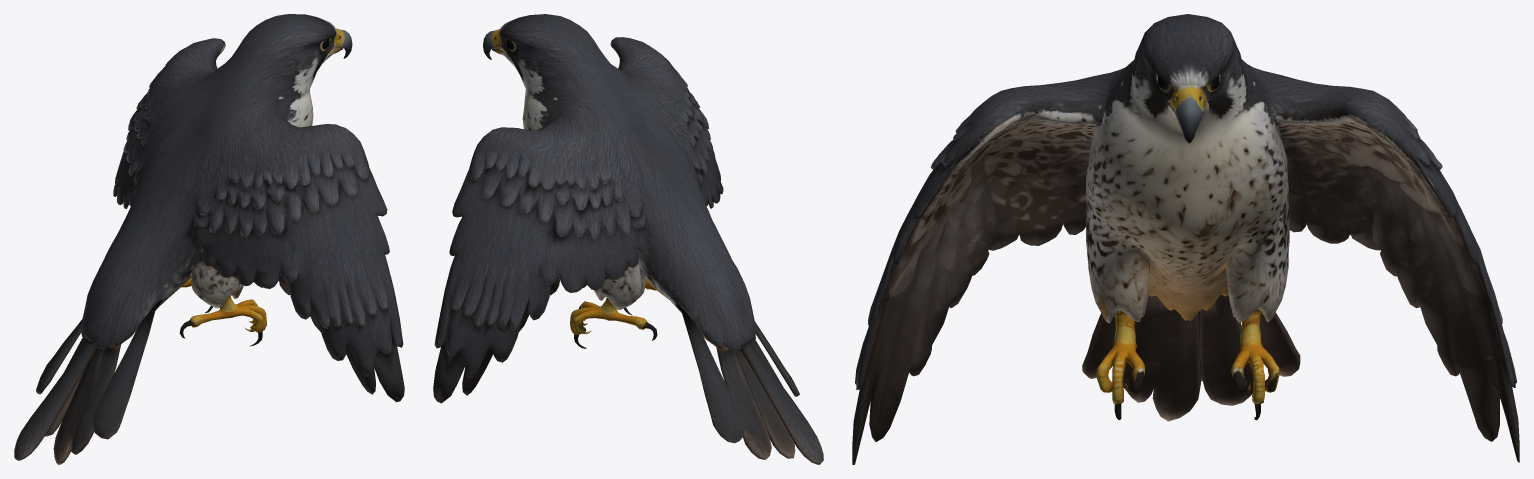
File: r33-falcon.glb
3 views of the same model, side by side, from view 1: azimuth 30°, elevation 25°; view 2: azimuth 150°, elevation 25°; view 3: azimuth 270°, elevation 25° (orthographic). The views are drawn at different scales.
Visible parts, largest first — view 1: tripo_node_3c106a39-9b25-406b-a4f7-652bc8f7e81e; view 2: tripo_node_3c106a39-9b25-406b-a4f7-652bc8f7e81e; view 3: tripo_node_3c106a39-9b25-406b-a4f7-652bc8f7e81e.
Part boxes in pixels (x1,y1,x2,y2): tripo_node_3c106a39-9b25-406b-a4f7-652bc8f7e81e: [14, 14, 404, 464]; tripo_node_3c106a39-9b25-406b-a4f7-652bc8f7e81e: [433, 14, 823, 464]; tripo_node_3c106a39-9b25-406b-a4f7-652bc8f7e81e: [852, 14, 1519, 464].
Bounding box in the file's own units: 0.8613 × 0.9395 × 0.998.
1 material, 1 textured.
